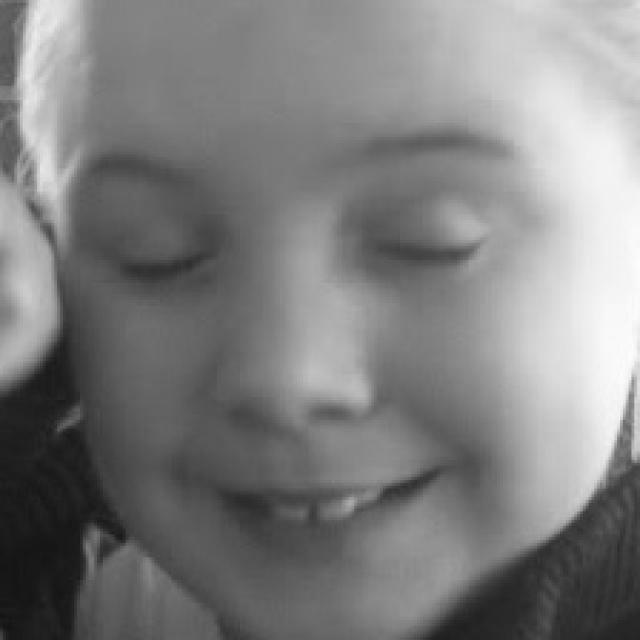real: (86, 20, 560, 635), (94, 174, 516, 304)
